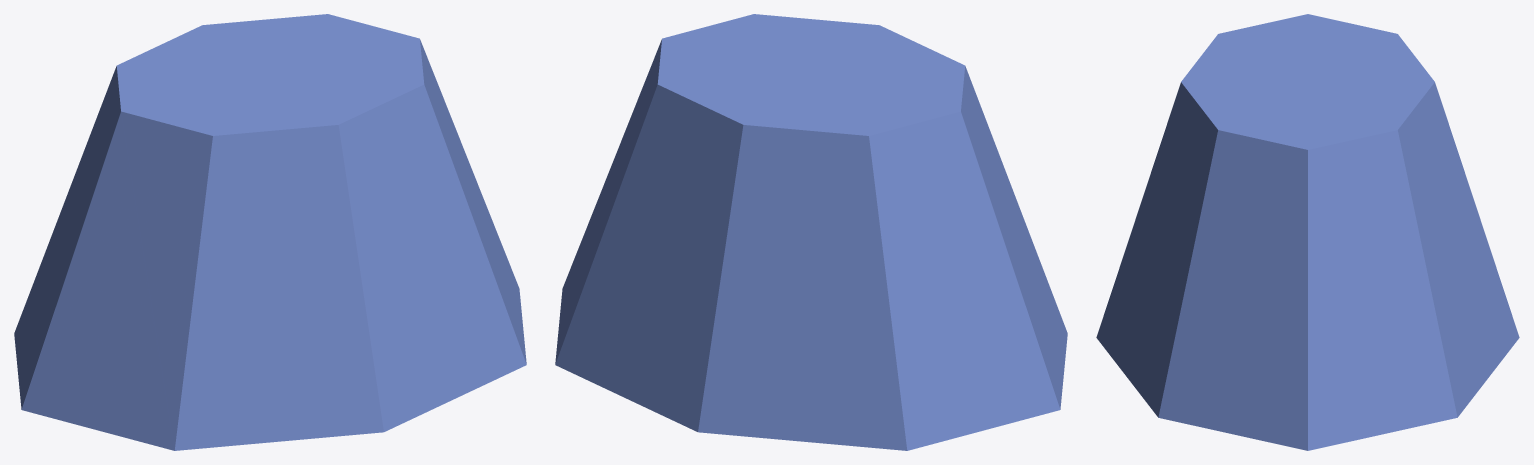
The model's file is bottom_skirt.glb.
The picture shows the model from 3 angles, left to right: view 1: azimuth 30°, elevation 25°; view 2: azimuth 150°, elevation 25°; view 3: azimuth 270°, elevation 25°; orthographic projection. The views are drawn at different scales.
Parts seen in each view (by area): view 1: skirt; view 2: skirt; view 3: skirt.
Part boxes in pixels (<box>): skirt: <box>14,14,526,450</box>; skirt: <box>555,14,1067,450</box>; skirt: <box>1096,14,1519,450</box>.
Bounding box in the file's own units: 0.38 × 0.2 × 0.3.
